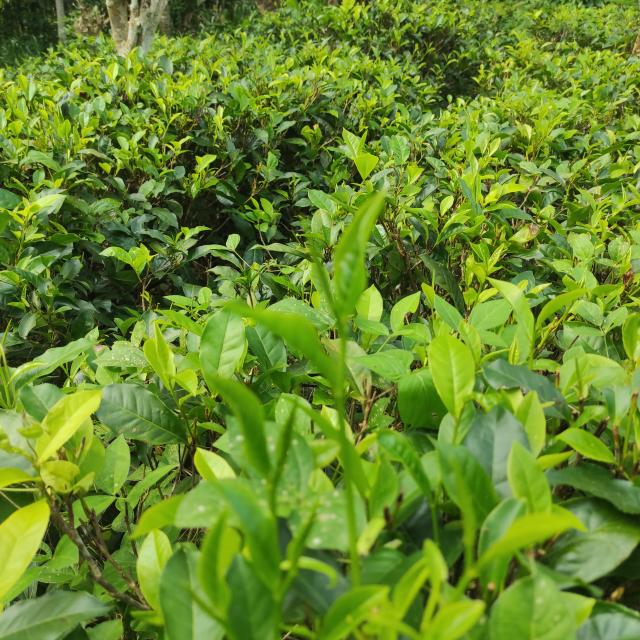unopened_leaf: (292, 211, 350, 350), (259, 380, 304, 532), (160, 568, 244, 638), (572, 352, 588, 400), (0, 316, 18, 358), (428, 266, 440, 288)
